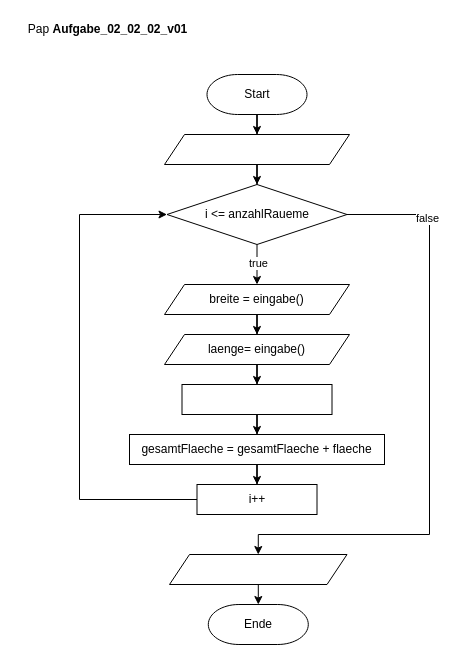
Some shapes in this 456 by 662 pixel diagram are drawn without their labels. Each missing label, with the centre of its shape:
anzahlRaeume = eingabe(): the point at 257,149
ausgabe(gesamtFlaeche): the point at 257,569
flaeche = breite * laenge: the point at 256,399
